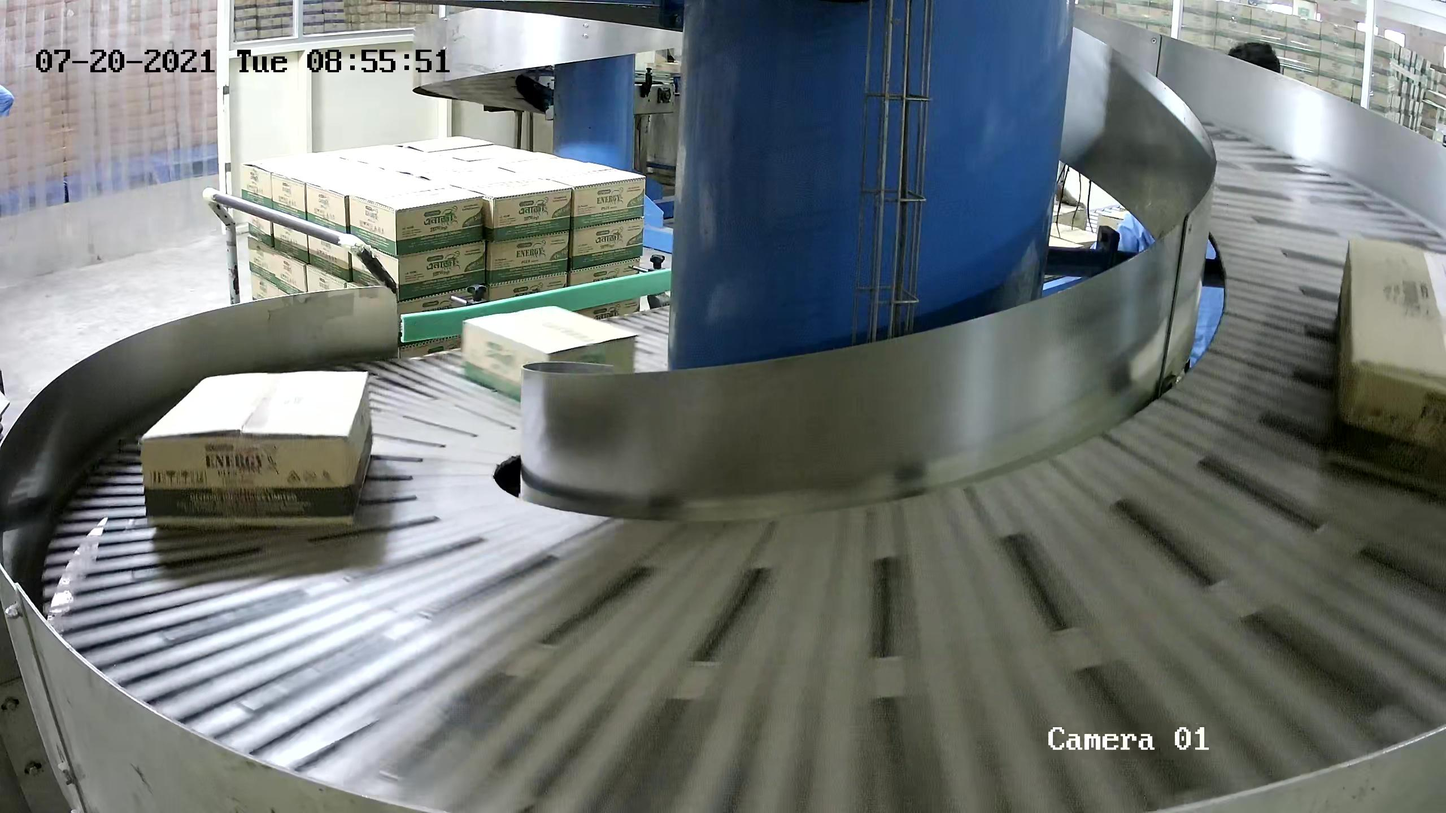Box: (140, 370, 374, 525), (1331, 236, 1446, 493), (460, 305, 641, 403)
